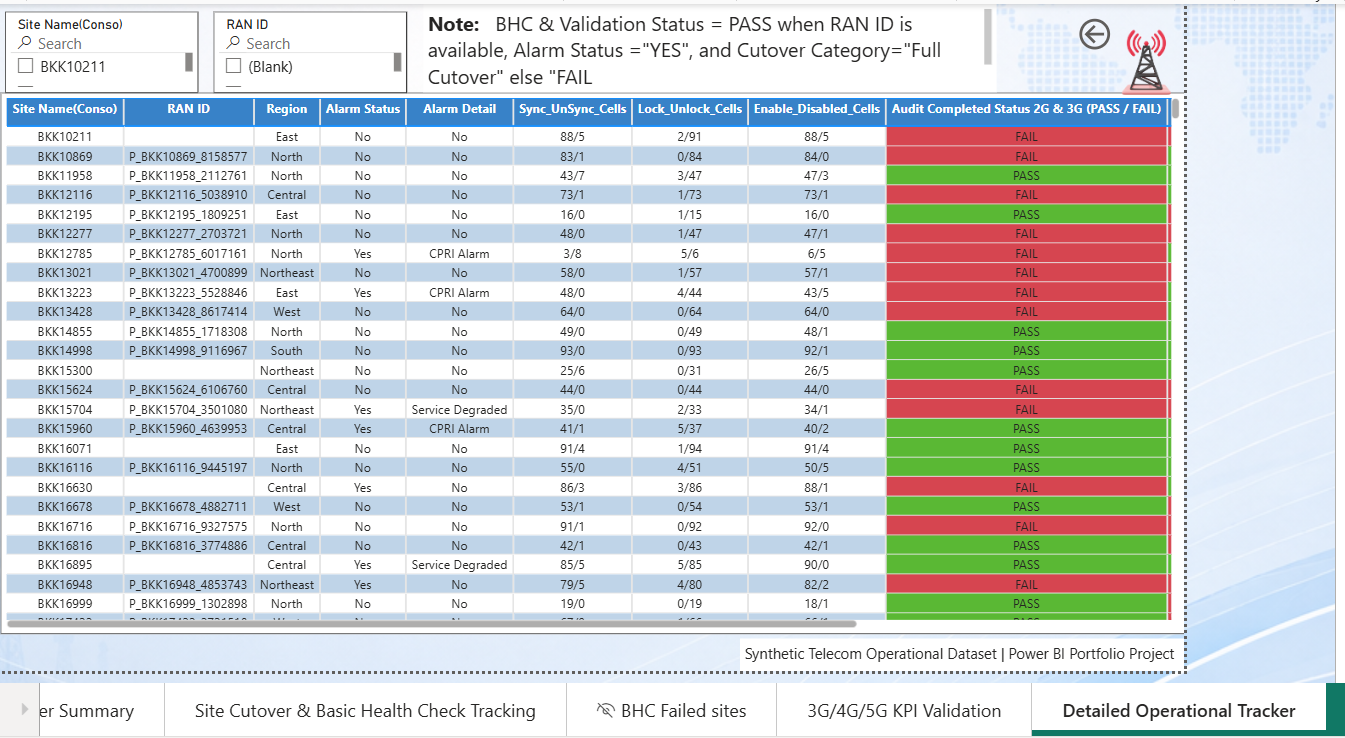

This screenshot's page, from the dashboard's own definition file:
{"tool":"powerbi","page":{"name":"Detailed Operational Tracker","canvas":[1280,720],"ordinal":5},"visuals":[{"type":"tableEx","fields":{"Values":["CP1_BHC_Data.Site Name(Conso)","CP1_BHC_Data.RAN ID","CP1_BHC_Data.Region","CP1_BHC_Data.Alarm Status","CP1_BHC_Data.Alarm Detail","CP1_BHC_Data.Count of Site Status_Sync_UnSync","CP1_BHC_Data.Count of Site Status_Lock_Unlock","CP1_BHC_Data.Count of Site Status_Enable_Disabled","CP1_BHC_Data.Audit Completed Status 2G & 3G (PASS / FAIL)","CP1_BHC_Data.Audit Completed Status 4G & 5G (PASS / FAIL)","CP1_BHC_Data.BHC & Validation Status"]},"box":[1.6,95.5,1279.2,584.5],"z":0},{"type":"slicer","fields":{"Values":["CP1_BHC_Data.Site Name(Conso)"]},"box":[5.7,7.6,208.4,88],"z":1000},{"type":"slicer","fields":{"Values":["CP1_BHC_Data.RAN ID"]},"box":[231.4,7.6,208.4,88],"z":2000},{"type":"actionButton","box":[1161,0,43.7,64.8],"z":3000},{"type":"image","box":[1198.2,0,81,124.7],"z":4000},{"type":"textbox","box":[458.2,0,618.5,95.5],"z":5000},{"type":"textbox","box":[799.1,684.4,480.9,35.6],"z":5001}]}

Visuals, with their boxes on the page's 1280x720 design canvas (x1, y1, x2, y2). These are canvas units, not pixel positions in the 1345x738 screenshot, which may show the page scaled, cropped or inside an application window:
tableEx - CP1_BHC_Data.Site Name(Conso) x CP1_BHC_Data.RAN ID: pyautogui.locateOnScreen(2, 96, 1281, 680)
slicer - CP1_BHC_Data.Site Name(Conso): pyautogui.locateOnScreen(6, 8, 214, 96)
slicer - CP1_BHC_Data.RAN ID: pyautogui.locateOnScreen(231, 8, 440, 96)
actionButton: pyautogui.locateOnScreen(1161, 0, 1205, 65)
image: pyautogui.locateOnScreen(1198, 0, 1279, 125)
textbox: pyautogui.locateOnScreen(458, 0, 1077, 96)
textbox: pyautogui.locateOnScreen(799, 684, 1280, 720)
